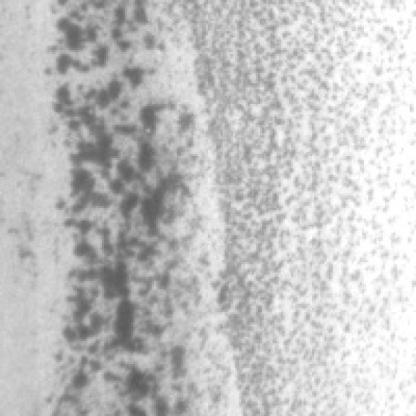pitted_surface: (193, 4, 412, 416), (44, 4, 204, 416)
